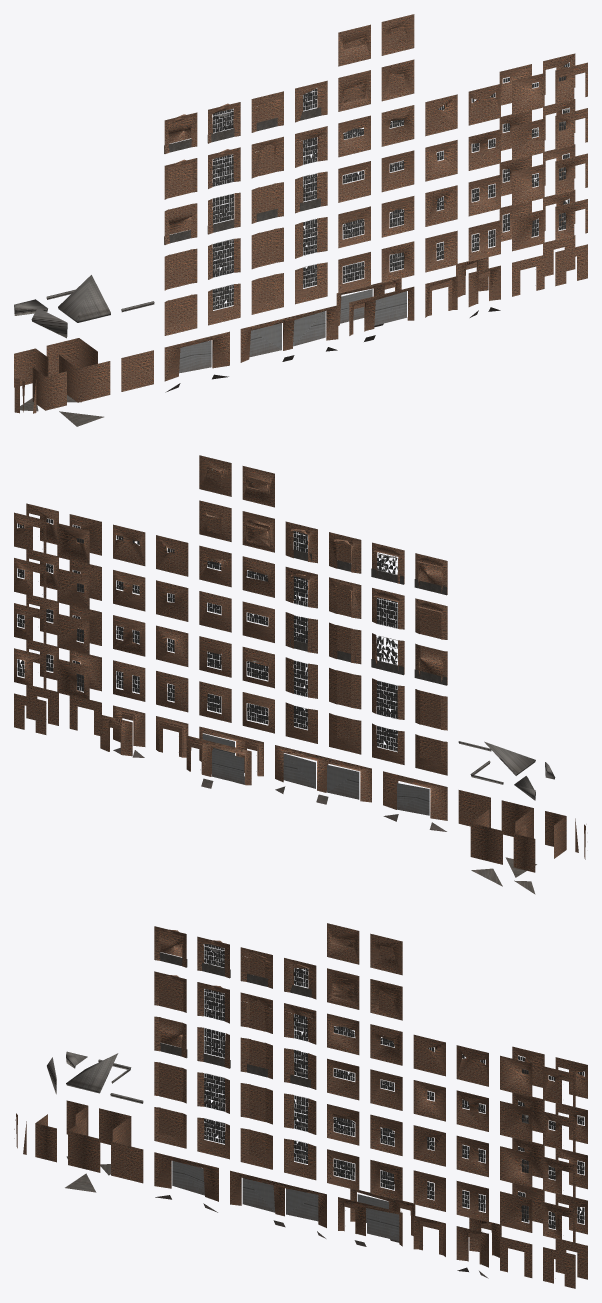
3 renders of one model, top to bottom at view 1: azimuth 30°, elevation 25°; view 2: azimuth 150°, elevation 25°; view 3: azimuth 330°, elevation 25°, orthographic.
Parts seen in each view (by area): view 1: cornice02_standard_standard_01.005, cornice02_standard_standard_01.003, cornice02_standard_standard_01.002, cornice02_standard_standard_01.001, cornice02_standard_standard_01.004; view 2: cornice02_standard_standard_01.005, cornice02_standard_standard_01.003, cornice02_standard_standard_01.004, cornice02_standard_standard_01.002, cornice02_standard_standard_01.001; view 3: cornice02_standard_standard_01.005, cornice02_standard_standard_01.003, cornice02_standard_standard_01.002, cornice02_standard_standard_01.004, cornice02_standard_standard_01.001.
Boxes of the visible parts, left/top/right/bottom form: cornice02_standard_standard_01.005: left=14, top=14, right=587, bottom=413; cornice02_standard_standard_01.003: left=213, top=63, right=569, bottom=309; cornice02_standard_standard_01.002: left=212, top=77, right=569, bottom=309; cornice02_standard_standard_01.001: left=14, top=107, right=321, bottom=426; cornice02_standard_standard_01.004: left=165, top=289, right=500, bottom=392; cornice02_standard_standard_01.005: left=14, top=455, right=586, bottom=872; cornice02_standard_standard_01.003: left=17, top=518, right=397, bottom=750; cornice02_standard_standard_01.004: left=113, top=734, right=446, bottom=831; cornice02_standard_standard_01.002: left=17, top=519, right=397, bottom=751; cornice02_standard_standard_01.001: left=290, top=549, right=555, bottom=894; cornice02_standard_standard_01.005: left=14, top=923, right=587, bottom=1288; cornice02_standard_standard_01.003: left=204, top=944, right=584, bottom=1228; cornice02_standard_standard_01.002: left=204, top=944, right=584, bottom=1228; cornice02_standard_standard_01.004: left=155, top=1161, right=488, bottom=1278; cornice02_standard_standard_01.001: left=47, top=952, right=311, bottom=1192.
Size of the model in its own units: 52.31 by 29 by 5.2.
6 materials, 6 textured.
